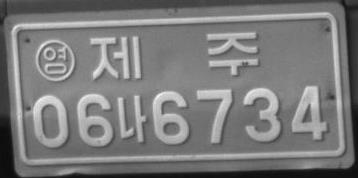0: (30, 92, 70, 149)
3: (243, 87, 281, 143)
4: (289, 83, 329, 141)
6: (150, 88, 190, 146), (75, 92, 115, 148)
7: (196, 88, 235, 144)
나: (115, 94, 149, 144)
영: (34, 38, 76, 81)
제주_D: (89, 30, 260, 80)
